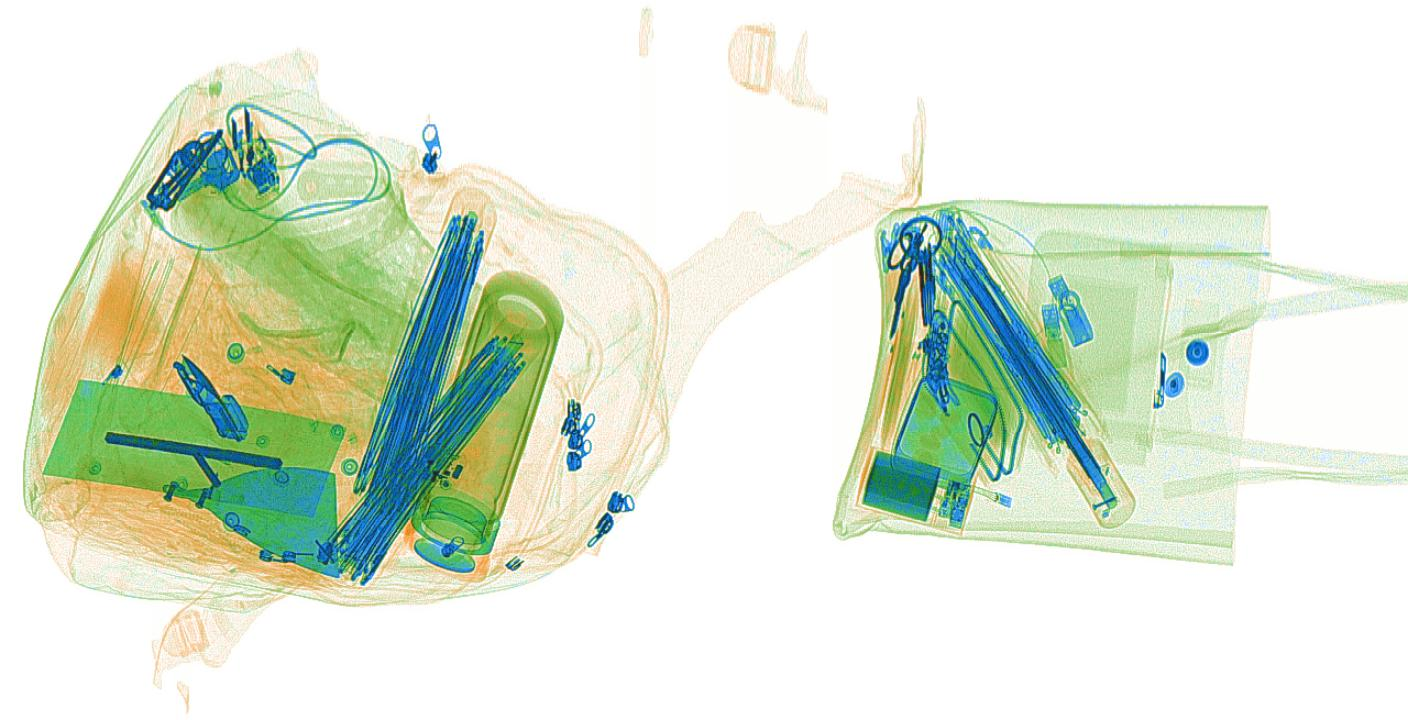USBFlashDisk: (1045, 273, 1095, 347), (1036, 301, 1069, 368)
